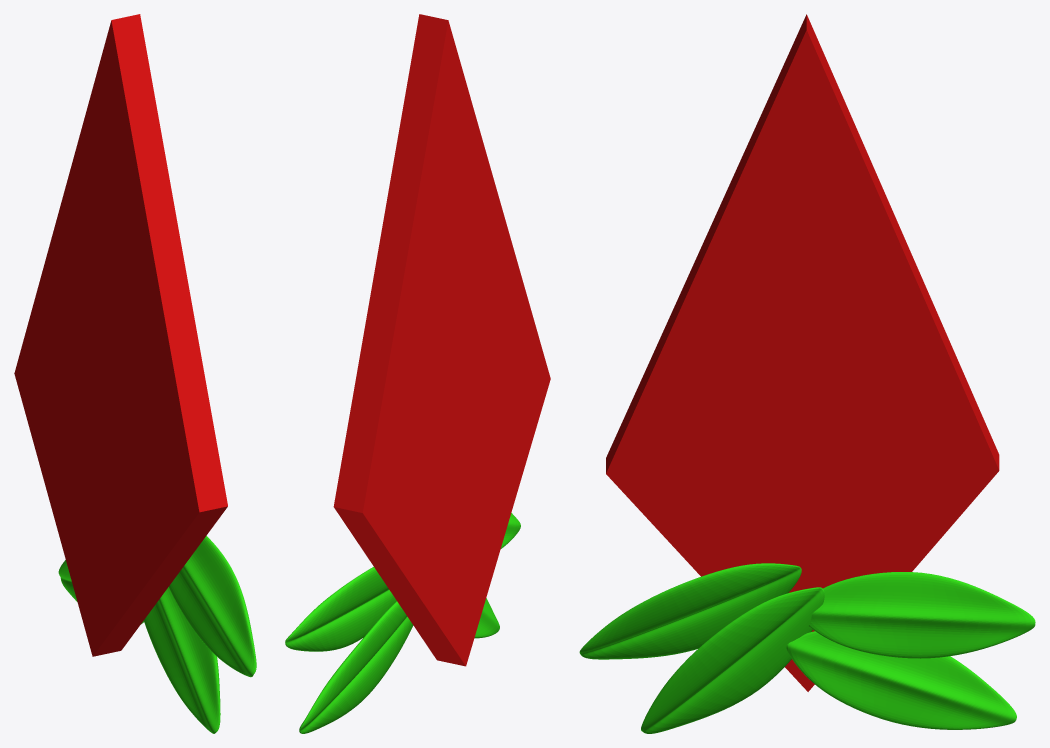
File: Flecha moai.fbx
3 views of the same model, side by side, from view 1: azimuth 30°, elevation 25°; view 2: azimuth 150°, elevation 25°; view 3: azimuth 270°, elevation 25° (orthographic). The views are drawn at different scales.
Parts seen in each view (by area): view 1: RED ARROW, Leaf.004, Leaf.003; view 2: RED ARROW, Leaf.009, Leaf.010, Leaf.003; view 3: RED ARROW, Leaf.010, Leaf.009, Leaf.003, Leaf.004.
Part boxes in pixels (x1,y1,x2,y2): RED ARROW: [14, 14, 227, 656]; Leaf.004: [169, 536, 256, 677]; Leaf.003: [143, 587, 220, 733]; RED ARROW: [333, 14, 550, 666]; Leaf.009: [299, 601, 413, 733]; Leaf.010: [285, 567, 396, 651]; Leaf.003: [474, 598, 499, 638]; RED ARROW: [606, 14, 999, 691]; Leaf.010: [809, 572, 1035, 658]; Leaf.009: [786, 631, 1016, 729]; Leaf.003: [641, 587, 824, 733]; Leaf.004: [579, 563, 801, 659].
Size of the model in its own units: 22.97 by 194 by 114.
